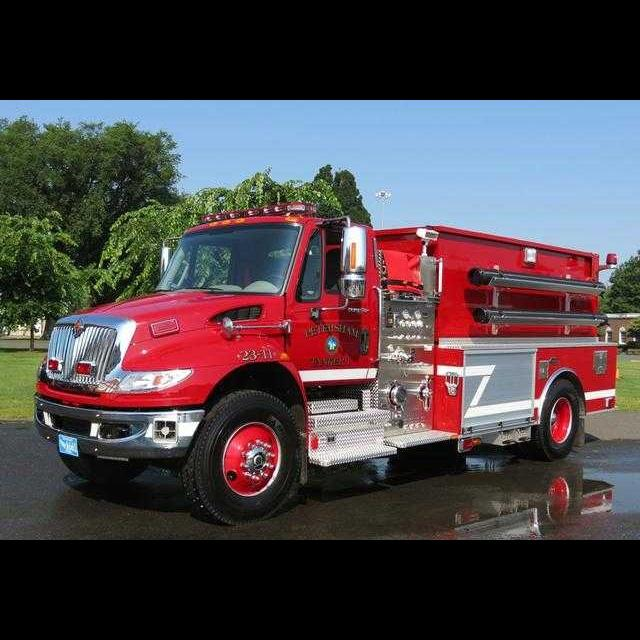emergency: (34, 201, 618, 524)
